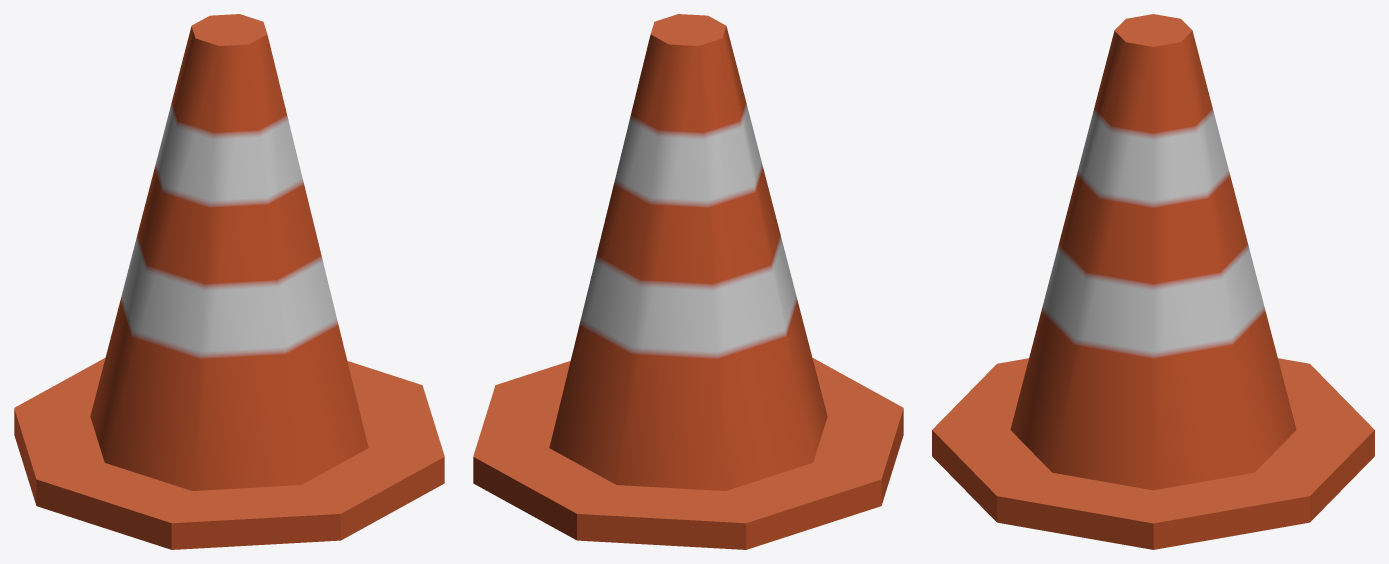
3 renders of one model, left to right at view 1: azimuth 30°, elevation 25°; view 2: azimuth 150°, elevation 25°; view 3: azimuth 270°, elevation 25°, orthographic.
Parts seen in each view (by area): view 1: Cone_A1; view 2: Cone_A1; view 3: Cone_A1.
Boxes of the visible parts, x1,y1,x2,y2 form: Cone_A1: (14, 14, 444, 549); Cone_A1: (473, 14, 903, 549); Cone_A1: (932, 14, 1374, 549).
Bounding box in the file's own units: 69.48 × 73.75 × 69.48.
